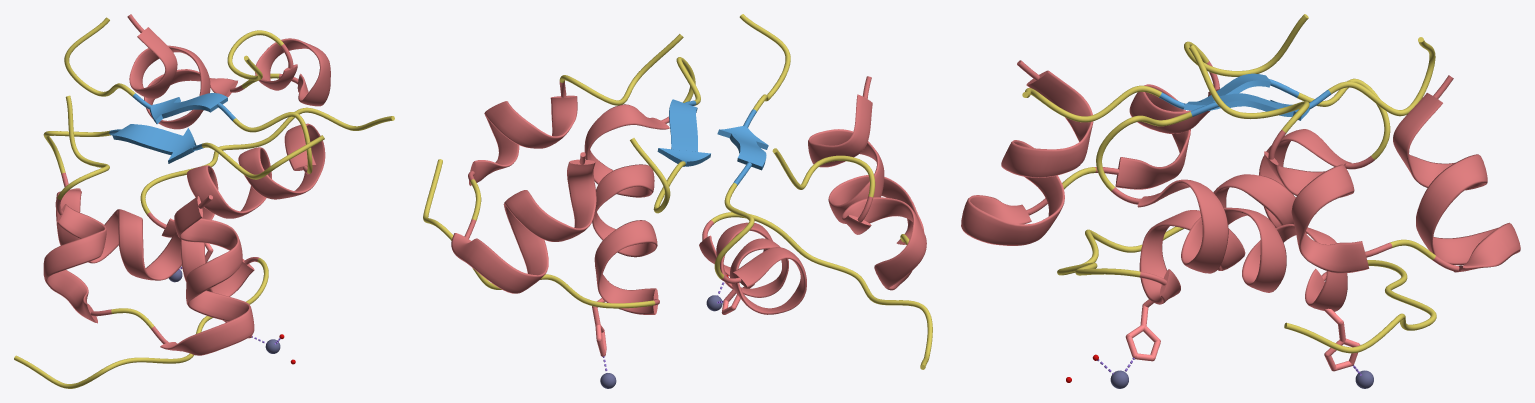
File: 4ins.glb
3 views of the same model, side by side, from view 1: azimuth 30°, elevation 25°; view 2: azimuth 150°, elevation 25°; view 3: azimuth 270°, elevation 25° (orthographic). The views are drawn at different scales.
Parts seen in each view (by area): view 1: New_Node; view 2: New_Node; view 3: New_Node.
Part boxes in pixels (box(x1,y1,x2,y2)): New_Node: box(14, 14, 394, 388); New_Node: box(423, 14, 932, 388); New_Node: box(961, 14, 1520, 388).
Size of the model in its own units: 1276488 by 810062 by 1192926.
